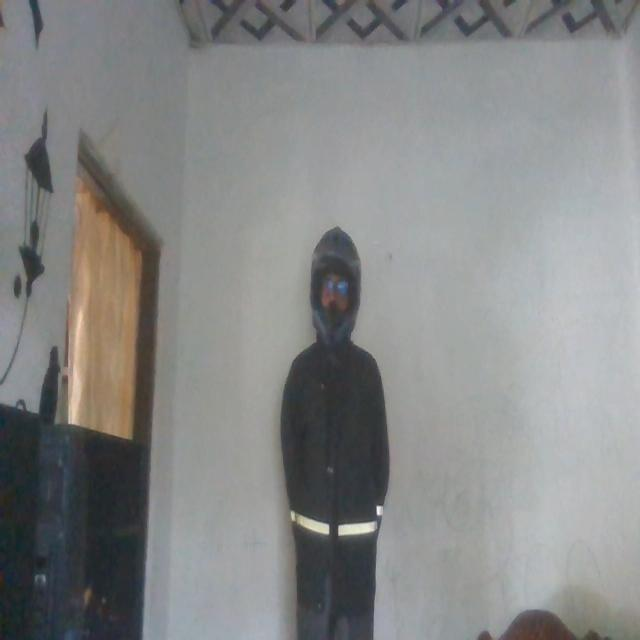Helmet_Wearer: (300, 226, 359, 356)
Jacket_Wearer: (283, 337, 392, 614)
Person: (279, 230, 393, 640)
